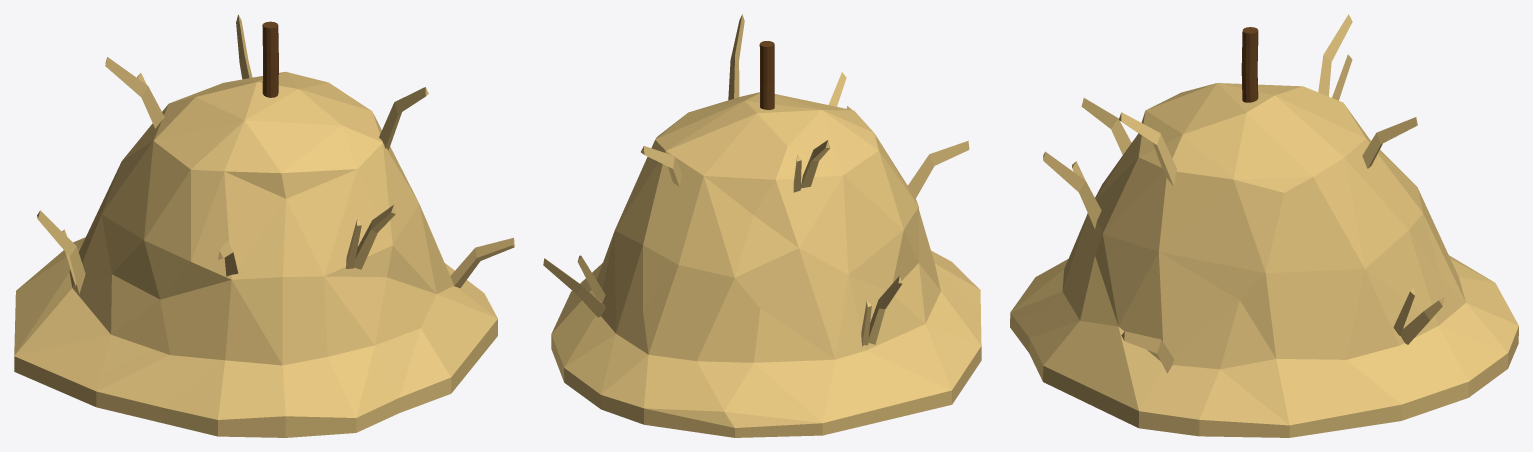
Rendered from straw_pile_02.fbx.
The picture shows the model from 3 angles, left to right: view 1: azimuth 30°, elevation 25°; view 2: azimuth 150°, elevation 25°; view 3: azimuth 270°, elevation 25°; orthographic projection. The views are drawn at different scales.
Parts seen in each view (by area): view 1: straw_pile_02; view 2: straw_pile_02; view 3: straw_pile_02.
Boxes of the visible parts, x1,y1,x2,y2 form: straw_pile_02: [14, 14, 514, 437]; straw_pile_02: [543, 14, 981, 437]; straw_pile_02: [1010, 14, 1518, 437].
Size of the model in its own units: 142 by 101 by 149.
